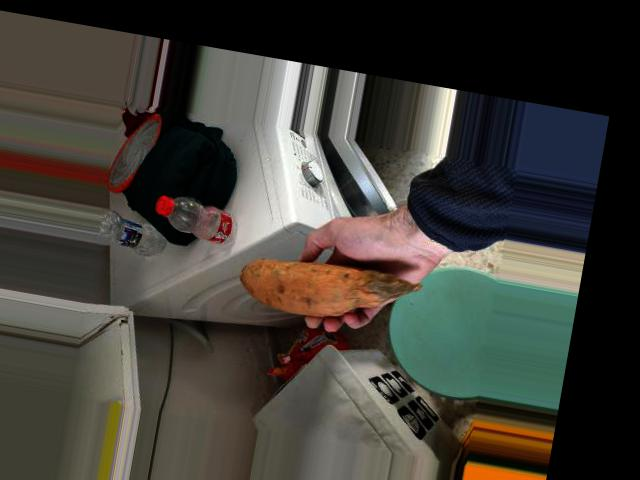sweet_potato: (251, 251, 410, 334)
